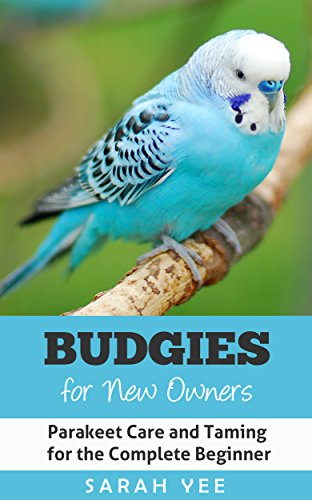budgie: (1, 26, 295, 294)
